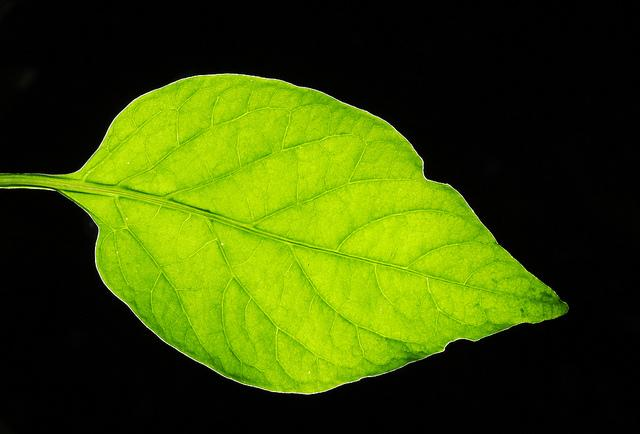Bell_pepper leaf spot: (73, 68, 573, 404)
